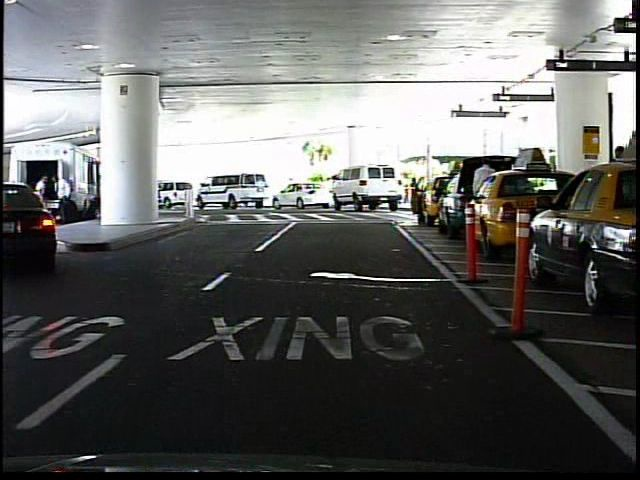person: (466, 154, 499, 240), (407, 174, 423, 208), (282, 173, 298, 204)
